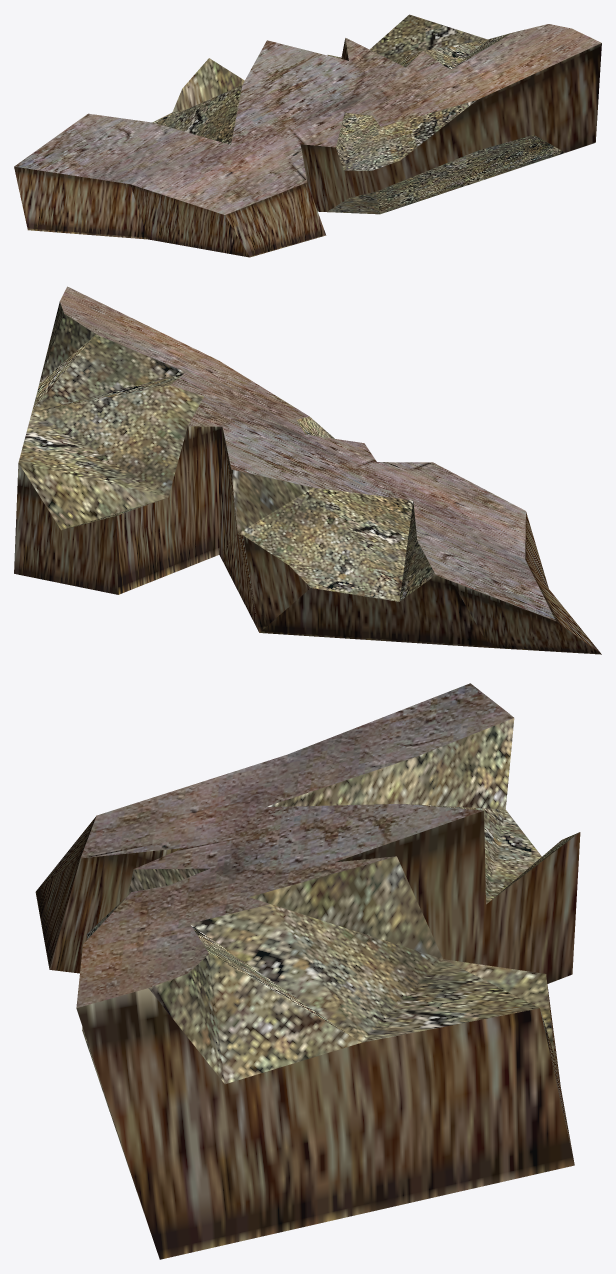
The model's file is medium_rubble_var1.fbx.
The picture shows the model from 3 angles, top to bottom: view 1: azimuth 30°, elevation 25°; view 2: azimuth 150°, elevation 25°; view 3: azimuth 270°, elevation 25°; orthographic projection. The views are drawn at different scales.
Parts seen in each view (by area): view 1: mesh_1, mesh_2, mesh_0; view 2: mesh_0, mesh_2, mesh_1; view 3: mesh_2, mesh_0, mesh_1.
Boxes of the visible parts, x1,y1,x2,y2 form: mesh_1: [14, 24, 601, 214]; mesh_2: [14, 38, 601, 257]; mesh_0: [152, 14, 565, 214]; mesh_0: [18, 301, 435, 601]; mesh_2: [14, 336, 601, 654]; mesh_1: [60, 286, 555, 620]; mesh_2: [35, 811, 580, 1259]; mesh_0: [82, 718, 579, 1212]; mesh_1: [76, 683, 513, 1007].
Bounding box in the file's own units: 114 × 26.09 × 52.14.
Materials: 3 (3 with a texture image).
